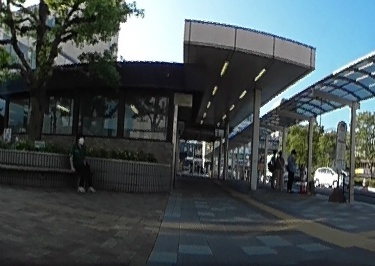person: (73, 133, 94, 193), (285, 149, 299, 194), (275, 149, 285, 189), (268, 148, 278, 188)
